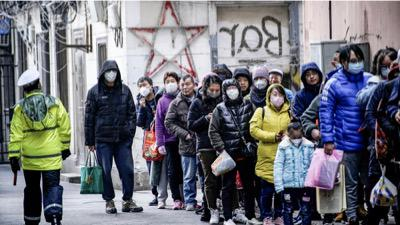with_mask: (345, 53, 364, 73), (270, 90, 285, 108), (224, 85, 241, 100), (380, 59, 393, 78), (138, 81, 152, 96), (289, 133, 303, 147), (253, 75, 267, 89), (104, 68, 118, 82), (165, 78, 178, 93), (207, 86, 220, 98)
without_mask: (304, 68, 319, 85), (235, 76, 249, 91), (181, 80, 193, 96), (269, 74, 280, 85)
